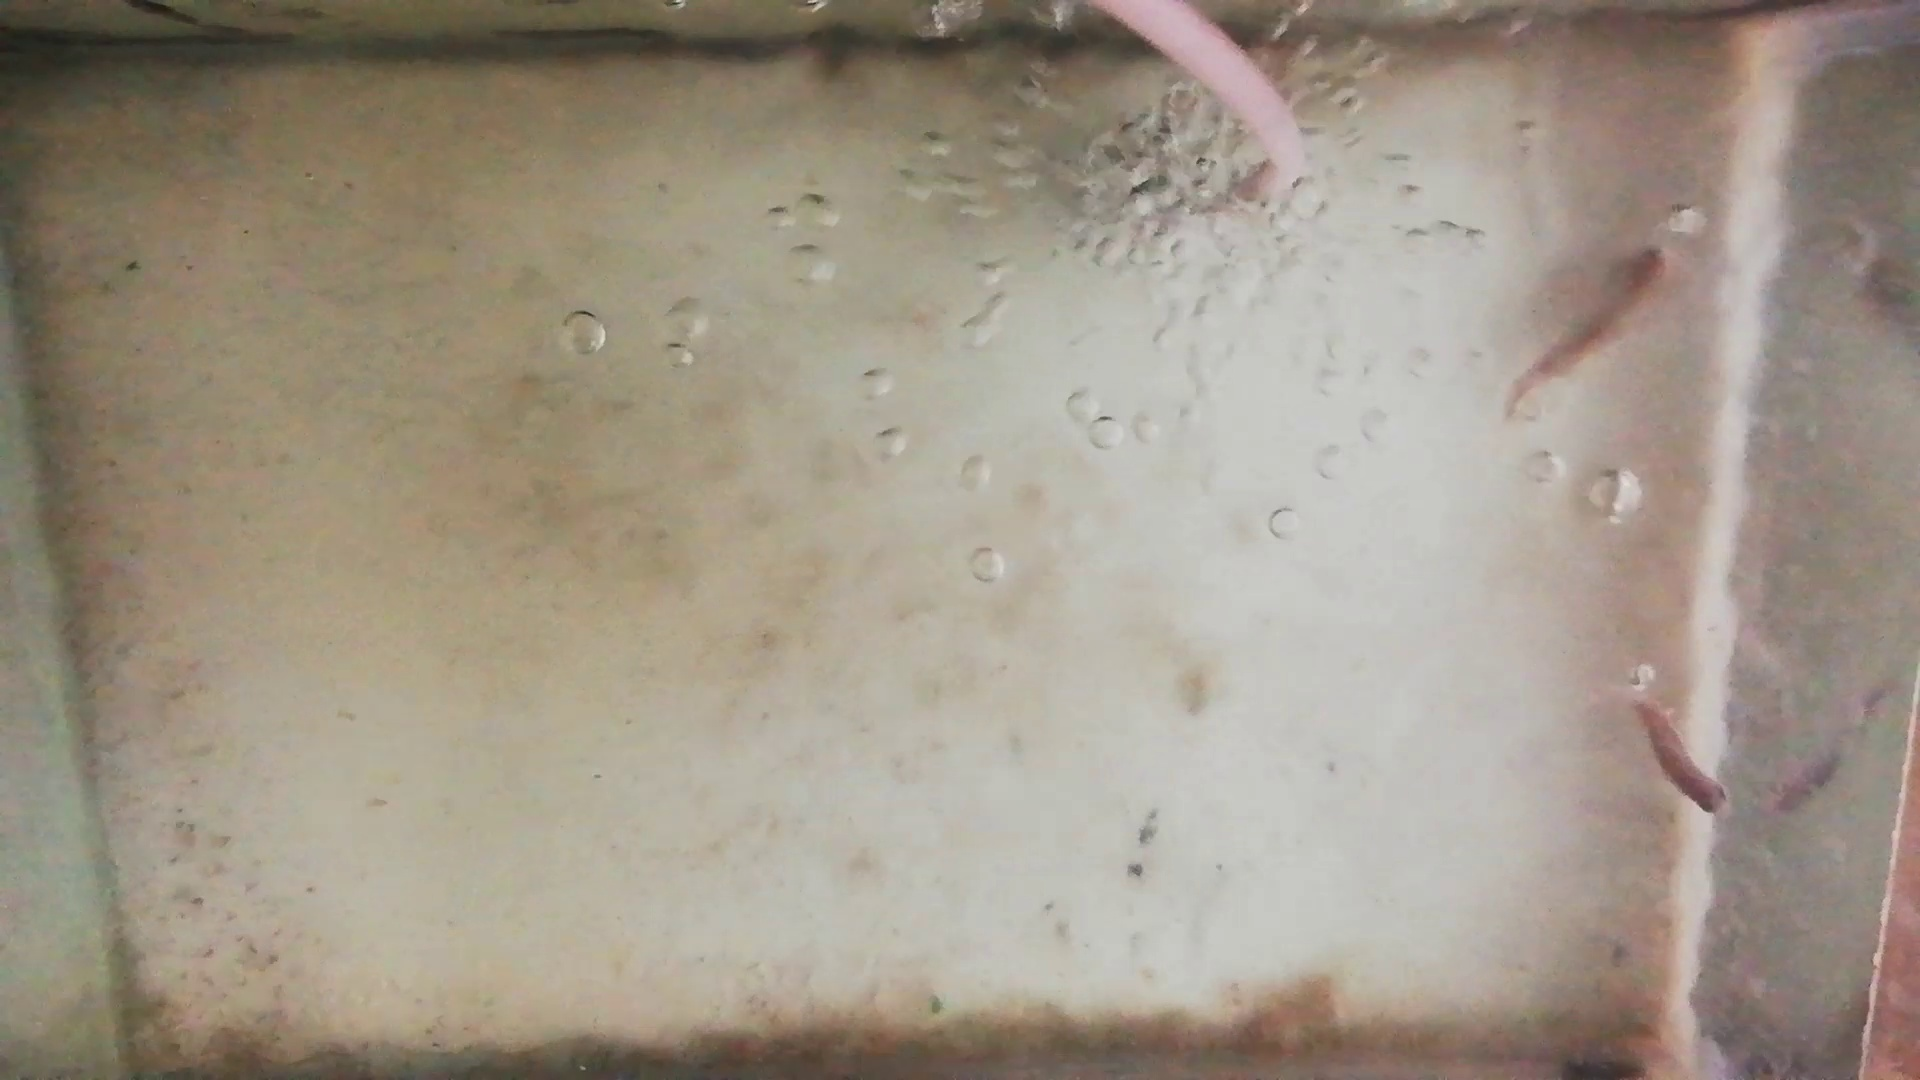fish: (1505, 244, 1673, 400), (1633, 694, 1730, 822)
